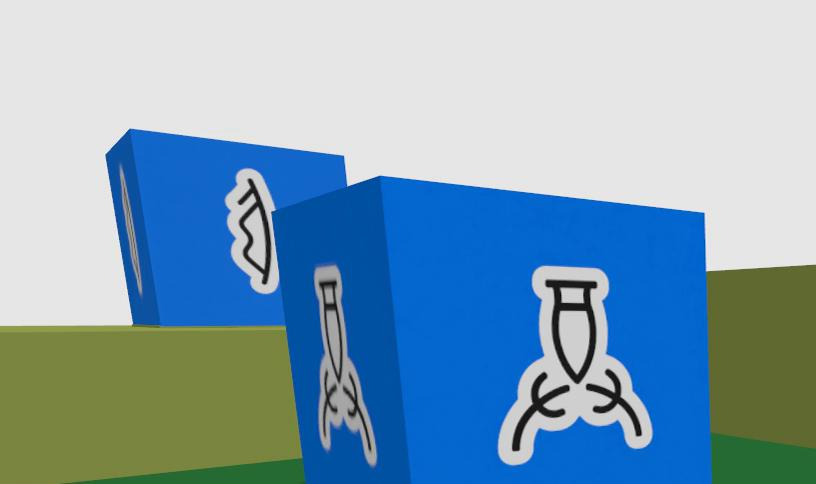KFS_REAL: (273, 177, 711, 484), (107, 129, 343, 326), (498, 266, 653, 465), (345, 287, 425, 484), (314, 265, 377, 465), (117, 167, 142, 296)
